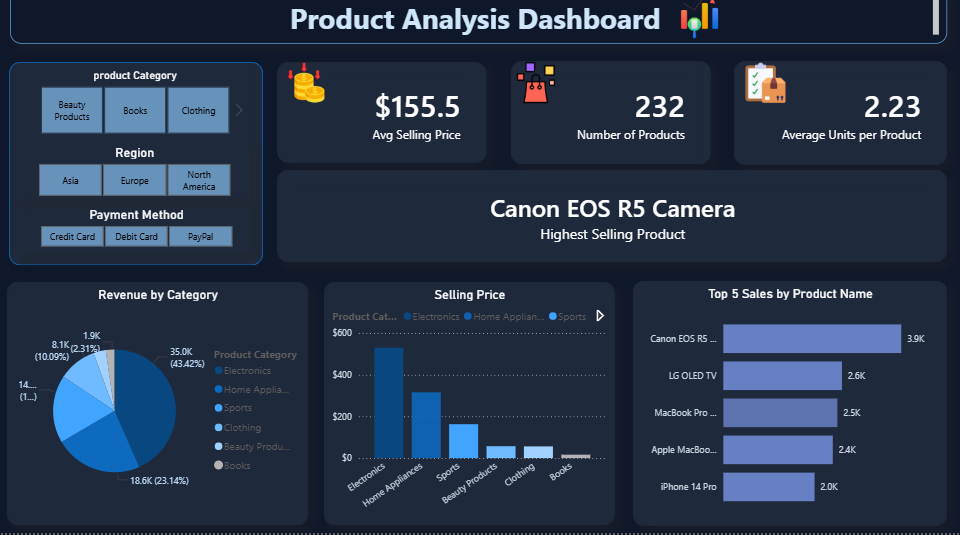

Layout of this report page (visuals, bound fields, positions):
{"tool":"powerbi","page":{"name":"Product Analysis Dashboard","canvas":[1280,720],"ordinal":1},"visuals":[{"type":"textbox","box":[18.3,0,1245,70],"z":0},{"type":"cardVisual","fields":{"Data":["Date.Avg Units Sold per Product"]},"box":[979.6,93.4,283.3,138],"z":1000,"group":"g1"},{"type":"barChart","fields":{"Y":["Date.Top 5 Sales"],"Category":["Online Sales Data.Product Name"]},"box":[846.3,385.6,416.7,324.6],"z":1000},{"type":"group","id":"g1","title":"Group 1","box":[372.9,92.9,890,138.6],"z":2000},{"type":"cardVisual","fields":{"Data":["Date.Number of Products"]},"box":[683.3,92.9,265.2,136.6],"z":2000,"group":"g1"},{"type":"cardVisual","fields":{"Data":["Date.Avg Selling Price"]},"box":[372.9,93.8,278.4,133.7],"z":3000,"group":"g1"},{"type":"columnChart","title":"Selling Price","fields":{"Series":["Online Sales Data.Product Category"],"Y":["Date.Avg Selling Price"],"Category":["Online Sales Data.Product Category"]},"box":[435.7,386.9,385.8,323.2],"z":3000},{"type":"shape","box":[17.9,93.7,337.6,270.1],"z":4000},{"type":"pieChart","title":" Revenue by Category","fields":{"Category":["Online Sales Data.Product Category"],"Y":["Date.Total Sales"]},"box":[14.2,386.9,399.8,323.2],"z":5000},{"type":"cardVisual","fields":{"Data":["Date.Highest Selling Product"]},"box":[372.8,238.1,890.2,121.9],"z":6000},{"type":"slicer","title":"Payment Method","fields":{"Values":["Online Sales Data.Payment Method"]},"box":[30.9,284.4,307.6,64.1],"z":6000,"group":"g2"},{"type":"group","id":"g2","title":"Group 3","box":[28.9,102,308.6,246.6],"z":7000},{"type":"slicer","title":"Region","fields":{"Values":["Online Sales Data.Region"]},"box":[28.9,201.9,308.3,73.7],"z":7000,"group":"g2"},{"type":"image","box":[880.9,5.5,108.7,57.8],"z":8000},{"type":"slicer","title":"product Category","fields":{"Values":["Online Sales Data.Product Category"]},"box":[31.1,102,304.3,96.2],"z":8000,"group":"g2"},{"type":"image","box":[989.6,95,64.7,55.1],"z":9000},{"type":"image","box":[373,95,77.1,55.1],"z":10000},{"type":"image","box":[682.7,95,68.8,55.1],"z":11000}]}

Visuals, with their boxes in screenshot pixels (x1, y1, x2, y2), scaled from the page's 1280x720 canvas onto the 960x535 screenshot:
textbox: locate(14, 0, 947, 52)
cardVisual - Date.Avg Units Sold per Product: locate(735, 69, 947, 172)
barChart - Date.Top 5 Sales x Online Sales Data.Product Name: locate(635, 287, 947, 528)
"Group 1" group: locate(280, 69, 947, 172)
cardVisual - Date.Number of Products: locate(512, 69, 711, 171)
cardVisual - Date.Avg Selling Price: locate(280, 70, 488, 169)
"Selling Price" columnChart: locate(327, 287, 616, 528)
shape: locate(13, 70, 267, 270)
" Revenue by Category" pieChart: locate(11, 287, 310, 528)
cardVisual - Date.Highest Selling Product: locate(280, 177, 947, 268)
"Payment Method" slicer: locate(23, 211, 254, 259)
"Group 3" group: locate(22, 76, 253, 259)
"Region" slicer: locate(22, 150, 253, 205)
image: locate(661, 4, 742, 47)
"product Category" slicer: locate(23, 76, 252, 147)
image: locate(742, 71, 791, 112)
image: locate(280, 71, 338, 112)
image: locate(512, 71, 564, 112)
